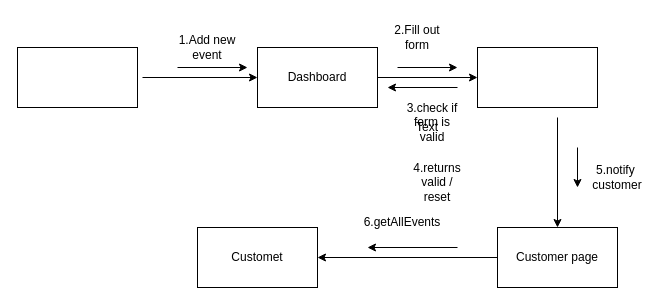
This 665x305 diagram has some shape labels left out. Each missing label, with the box of its shape:
Admin: (16, 46, 138, 108)
Django System: (476, 46, 598, 108)
